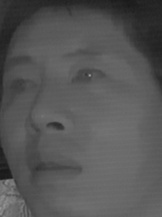eye: (71, 67, 106, 87), (7, 77, 38, 95)
mouth: (24, 150, 85, 187)
